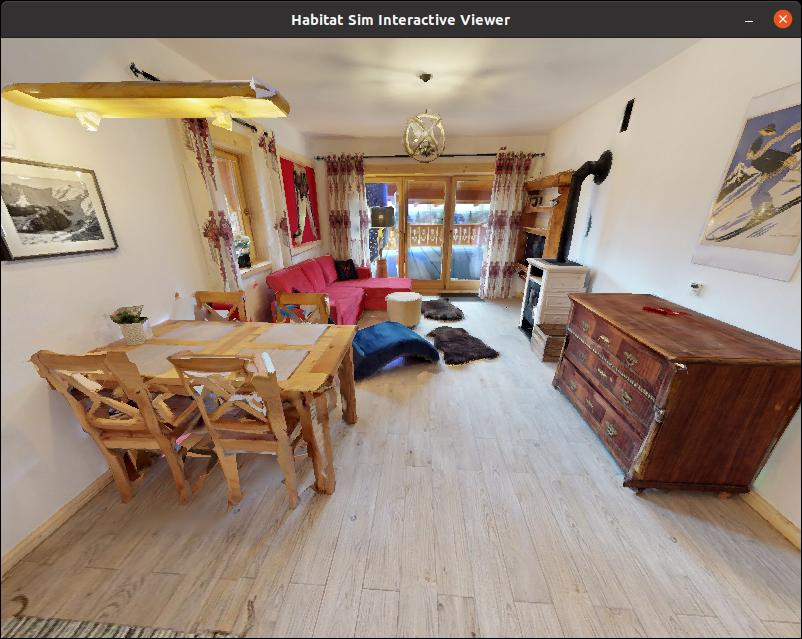chair: (25, 337, 216, 512), (173, 345, 316, 507)
sofa: (266, 247, 443, 327)
table: (86, 305, 389, 511)
